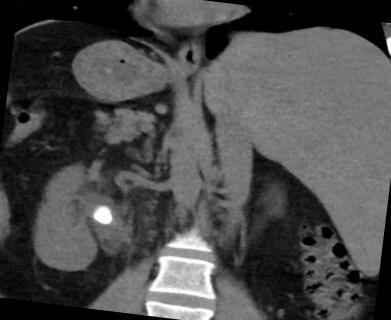Tas_Var: (85, 200, 118, 230)
